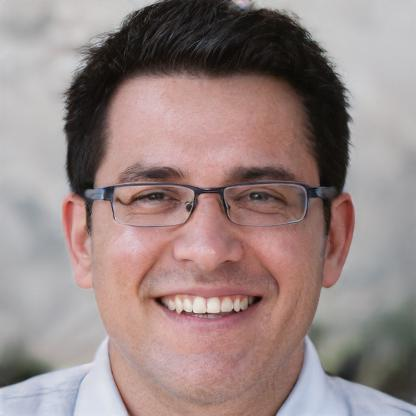glasses: (90, 175, 317, 229)
